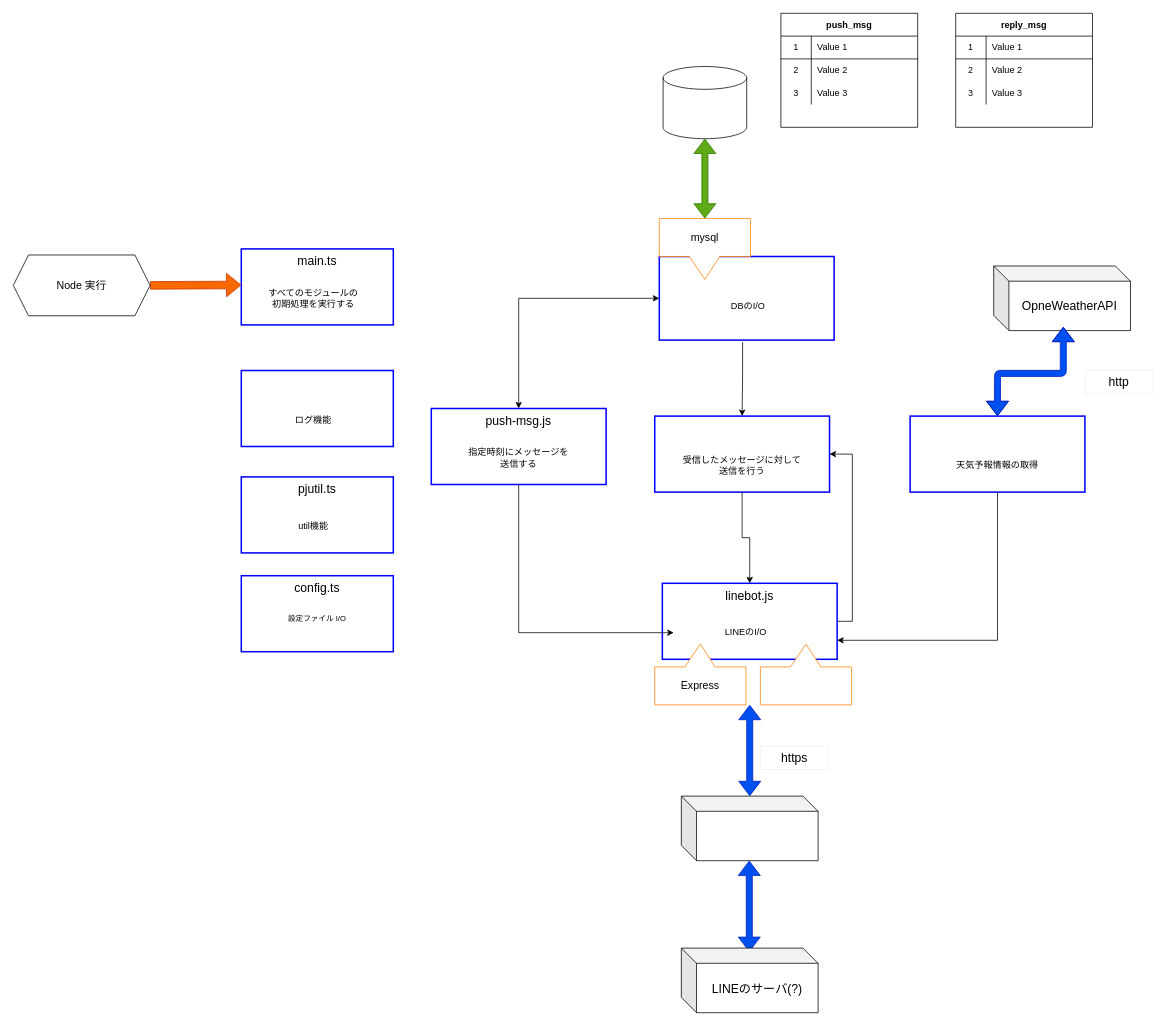
Image size: 1167x1026. Some labels were removed from this diagram. Here are the shapes that lost their labels. From the top down, the box of each, then its label:
(662, 66, 747, 139): mysqlサーバ
(658, 255, 834, 340): db.js
(240, 369, 394, 447): log.ts
(654, 415, 830, 492): reply-msg.js
(909, 415, 1085, 492): weather.js
(760, 643, 852, 705): linebot-sdk
(681, 795, 818, 861): ultrahook
